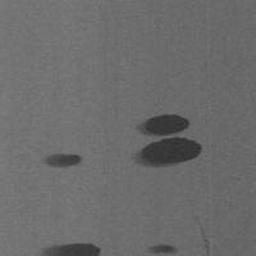Oil spot: (129, 113, 205, 169), (37, 241, 102, 256), (40, 151, 83, 169), (145, 242, 180, 256)
